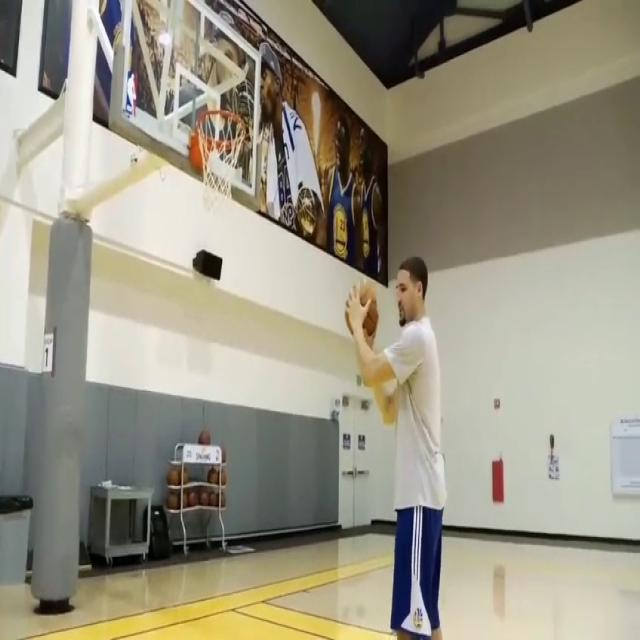ball: (345, 285, 379, 344), (166, 466, 181, 486), (165, 490, 180, 510), (175, 464, 187, 484), (208, 467, 220, 486), (198, 430, 211, 446), (178, 489, 189, 506), (208, 490, 219, 507), (190, 490, 200, 507), (198, 490, 208, 507), (218, 492, 227, 510), (219, 469, 228, 486)
